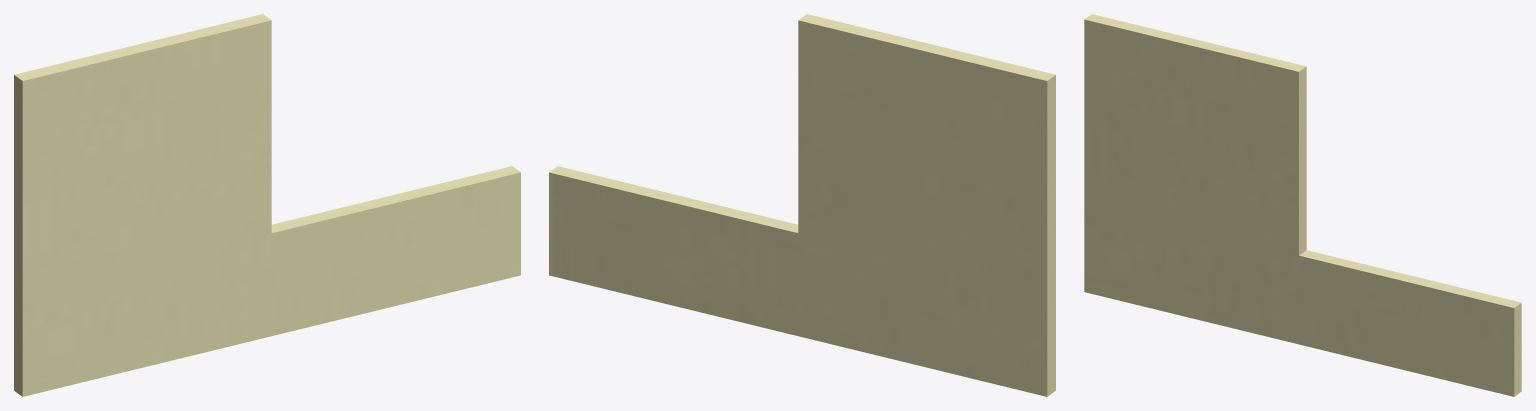
Rendered from parede_13.obj.
3 renders of one model, left to right at view 1: azimuth 30°, elevation 25°; view 2: azimuth 150°, elevation 25°; view 3: azimuth 330°, elevation 25°, orthographic. The views are drawn at different scales.
Parts seen in each view (by area): view 1: parede_13_Cube.009; view 2: parede_13_Cube.009; view 3: parede_13_Cube.009.
Boxes of the visible parts, x1,y1,x2,y2 form: parede_13_Cube.009: (14,14,520,396); parede_13_Cube.009: (549,14,1055,396); parede_13_Cube.009: (1084,14,1521,396).
Size of the model in its own units: 6.6 by 4 by 0.2.
Materials: 1 (1 with a texture image).
